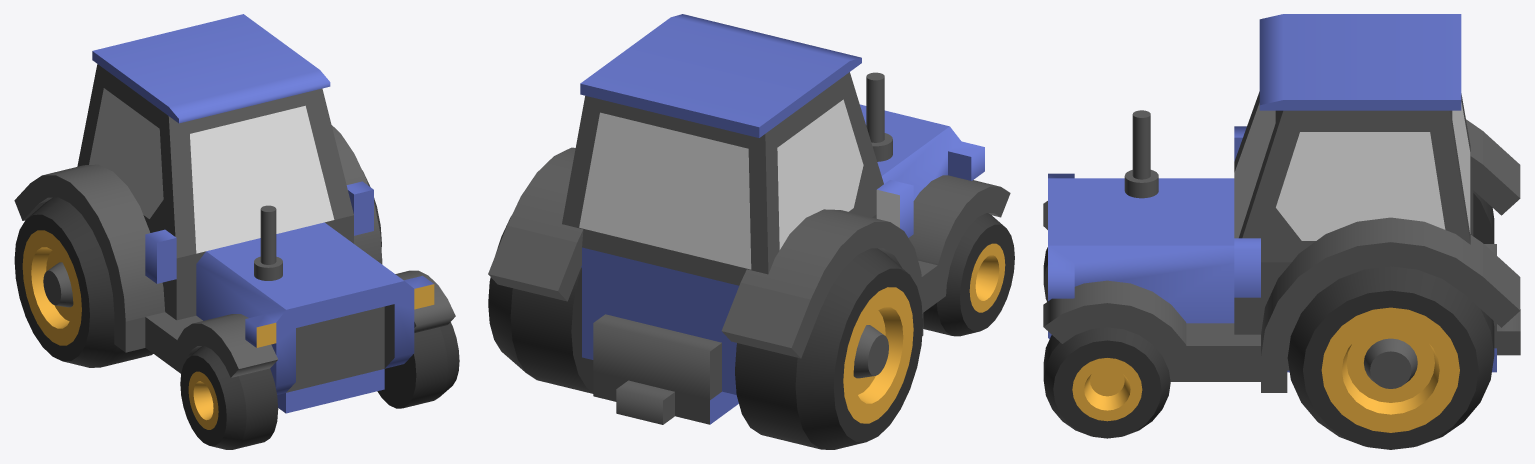
Rendered from tractor.dae.
3 views of the same model, side by side, from view 1: azimuth 30°, elevation 25°; view 2: azimuth 150°, elevation 25°; view 3: azimuth 270°, elevation 25° (orthographic). The views are drawn at different scales.
Visible parts, largest first — view 1: body, skirts, wheel_backLeft, wheel_frontLeft, wheel_frontRight; view 2: body, skirts, wheel_backLeft, wheel_backRight, wheel_frontLeft; view 3: body, skirts, wheel_backRight, wheel_frontRight, wheel_backLeft.
Boxes of the visible parts, box(x1,y1,x2,y2) form: body: box(77, 14, 434, 413); skirts: box(14, 125, 455, 377); wheel_backLeft: box(14, 197, 153, 367); wheel_frontLeft: box(180, 346, 278, 449); wheel_frontRight: box(377, 322, 459, 408); body: box(562, 14, 984, 424); skirts: box(488, 147, 1010, 358); wheel_backLeft: box(735, 248, 922, 449); wheel_backRight: box(488, 215, 593, 393); wheel_frontLeft: box(923, 213, 1014, 336); body: box(1048, 14, 1520, 372); skirts: box(1043, 119, 1520, 392); wheel_backRight: box(1287, 266, 1494, 449); wheel_frontRight: box(1043, 327, 1170, 438); wheel_backLeft: box(1473, 190, 1494, 243).
Size of the model in its own units: 1.66 by 1.51 by 2.02.
